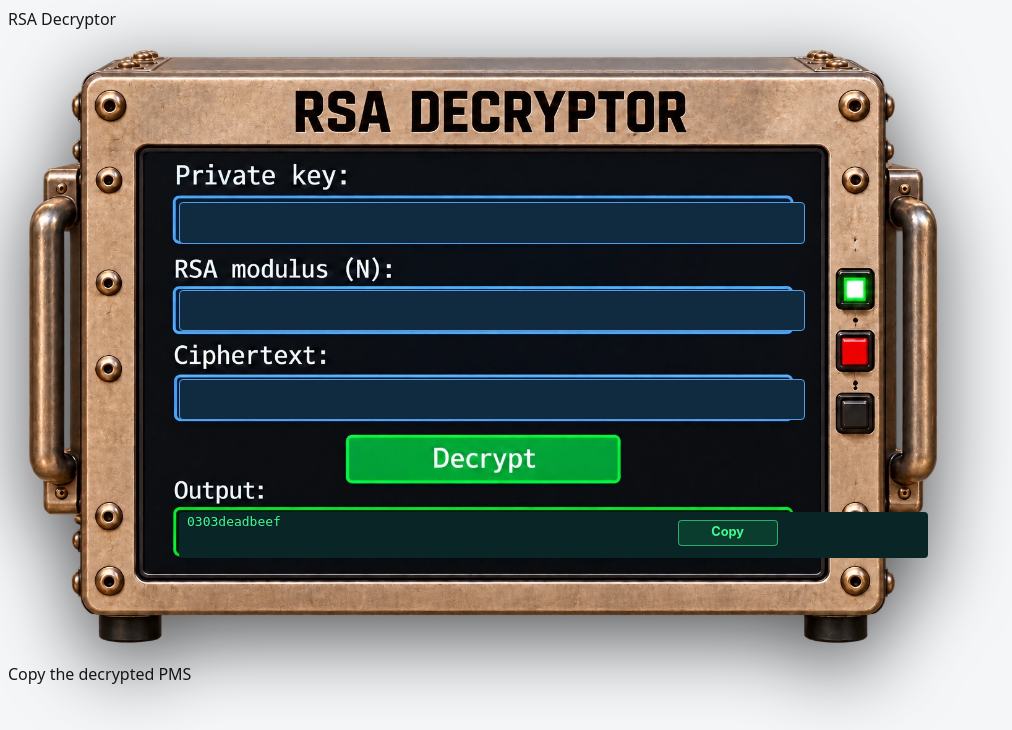
Test case: RSA decryptor screen › shows the PMS from the solved view and copies it
expect the text named "Output" reads "0303deadbeef": met, box x1=187 y1=514 x2=281 y2=529
What coordinates should you click on to do the following:
click the button "Copy"
I would click on:
 (728, 533)
Its box is x1=678 y1=520 x2=778 y2=546.
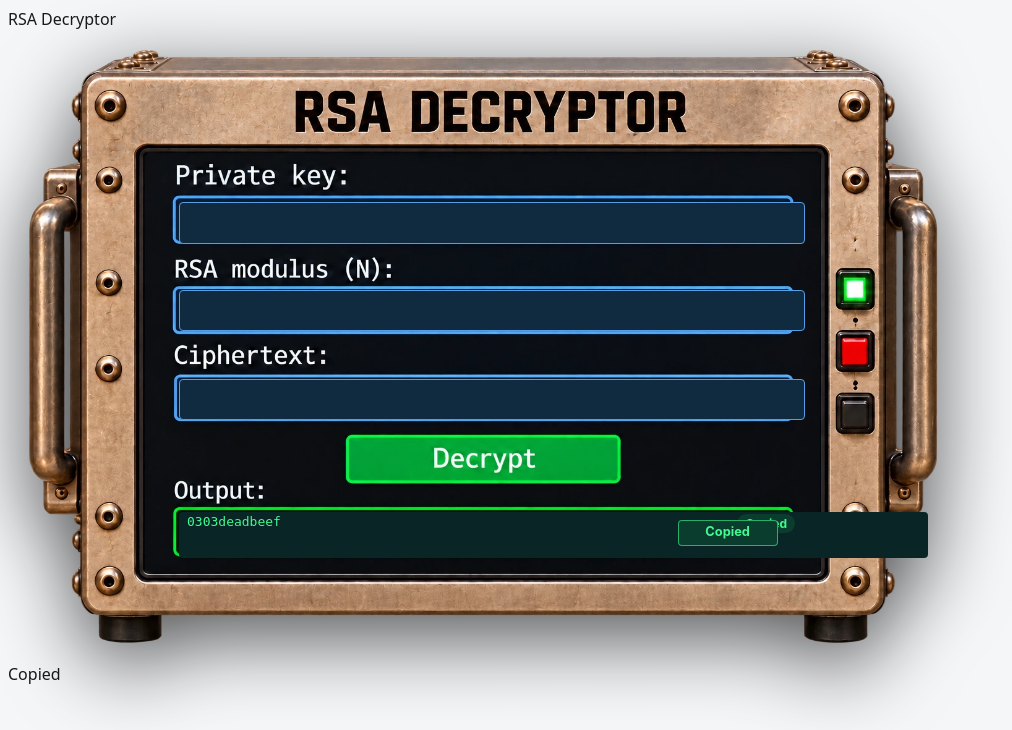
expect the text "Copied" is shown: met, box x1=8 y1=663 x2=61 y2=685
